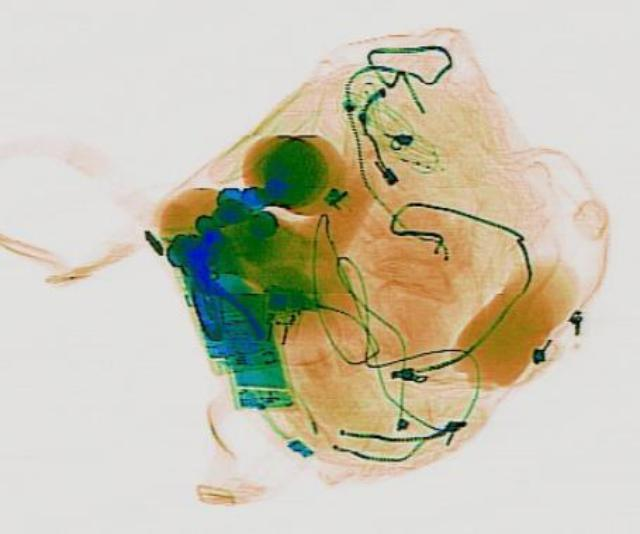Pliers: (161, 240, 265, 352)
